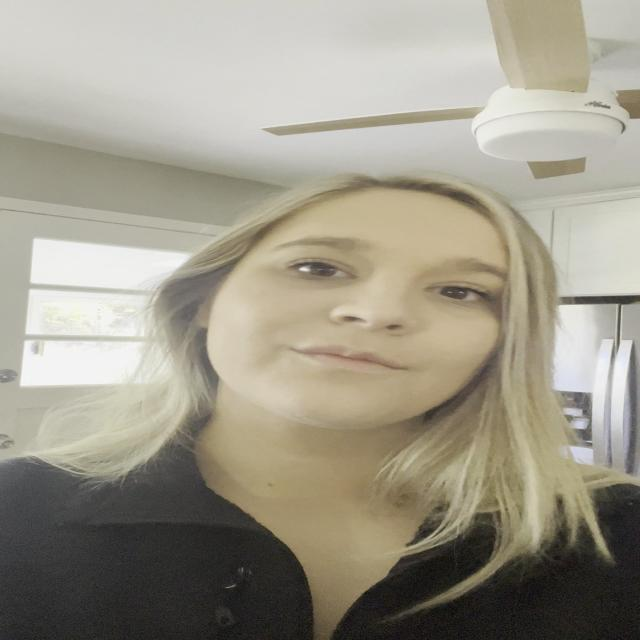no-helmet: (178, 174, 538, 448)
